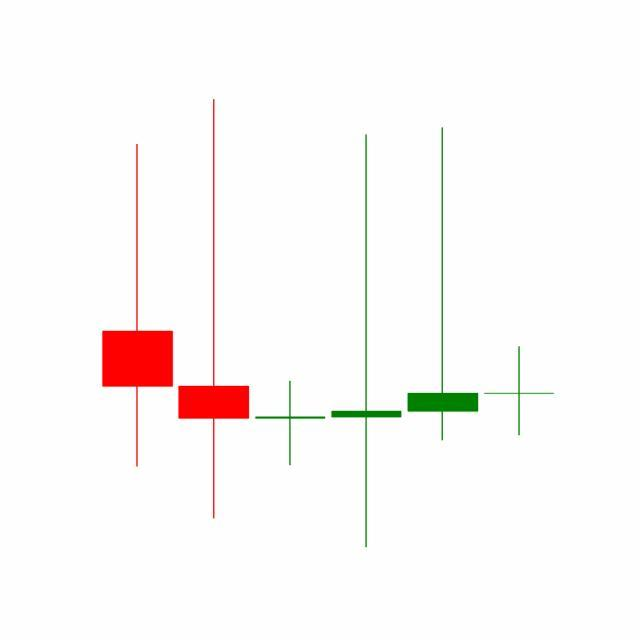Gravestone Doji: (404, 124, 482, 444)
